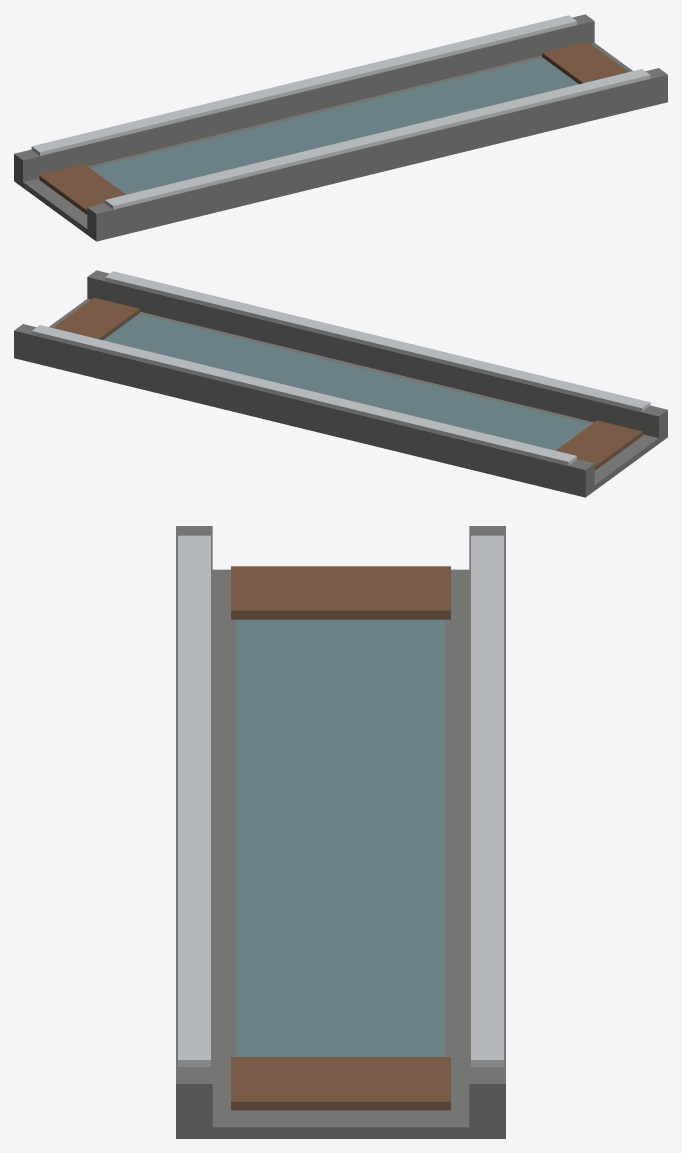
Rendered from drain_ditch.glb.
3 renders of one model, top to bottom at view 1: azimuth 30°, elevation 25°; view 2: azimuth 150°, elevation 25°; view 3: azimuth 270°, elevation 25°, orthographic. The views are drawn at different scales.
Parts seen in each view (by area): view 1: drain_ditch; view 2: drain_ditch; view 3: drain_ditch.
Boxes of the visible parts, <box> form: drain_ditch: <box>14,14,667,241</box>; drain_ditch: <box>14,270,667,497</box>; drain_ditch: <box>176,526,505,1138</box>.
Bounding box in the file's own units: 3.84 × 0.2 × 0.96.
